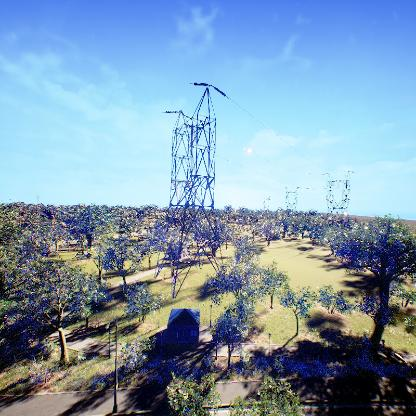tower: (160, 78, 233, 296), (319, 161, 355, 240)
